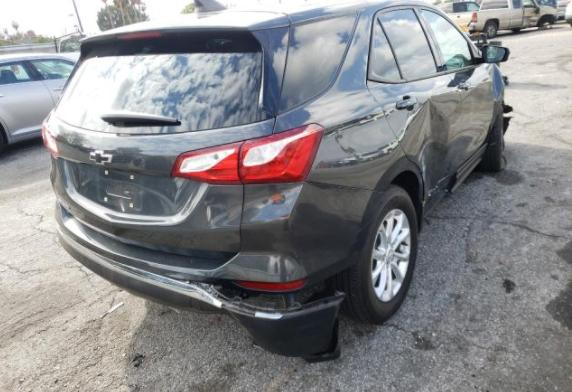Back-bumper: (48, 151, 387, 364)
Back-door: (365, 5, 463, 198)
Back-wheel: (335, 182, 419, 326)
Back-window: (278, 13, 358, 115), (380, 9, 437, 79), (372, 20, 401, 80)
Back-windshield: (55, 33, 274, 136)
Fender: (482, 63, 506, 127)
Front-door: (414, 5, 495, 178)
Front-wheel: (474, 112, 503, 174)
Front-window: (421, 10, 474, 70)
Mirror: (471, 43, 512, 66)
Quarter-panel: (271, 79, 425, 205)
Rocker-panel: (422, 142, 488, 223)
Roof: (221, 0, 379, 16)
Tail-light: (170, 123, 324, 186), (41, 109, 59, 158)
Trunk: (49, 10, 290, 260)
